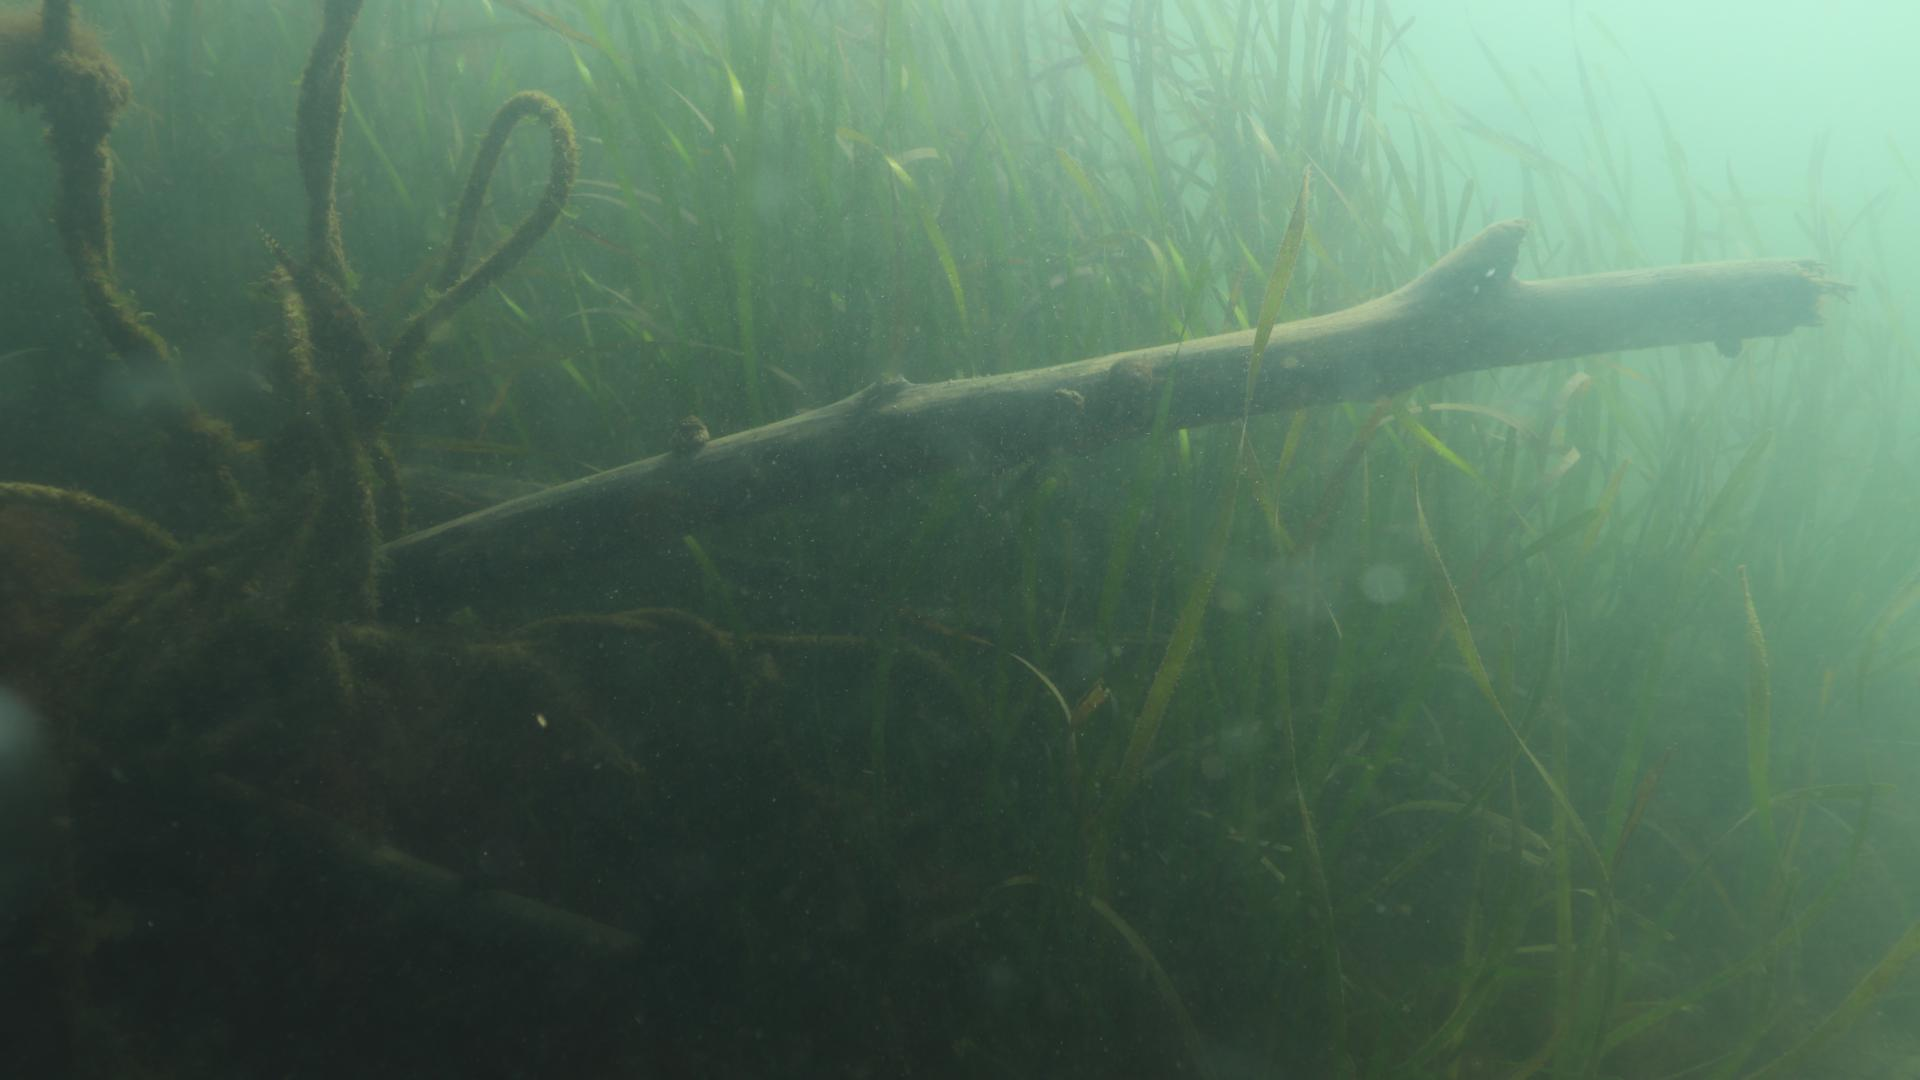wood: (386, 206, 1840, 604)
